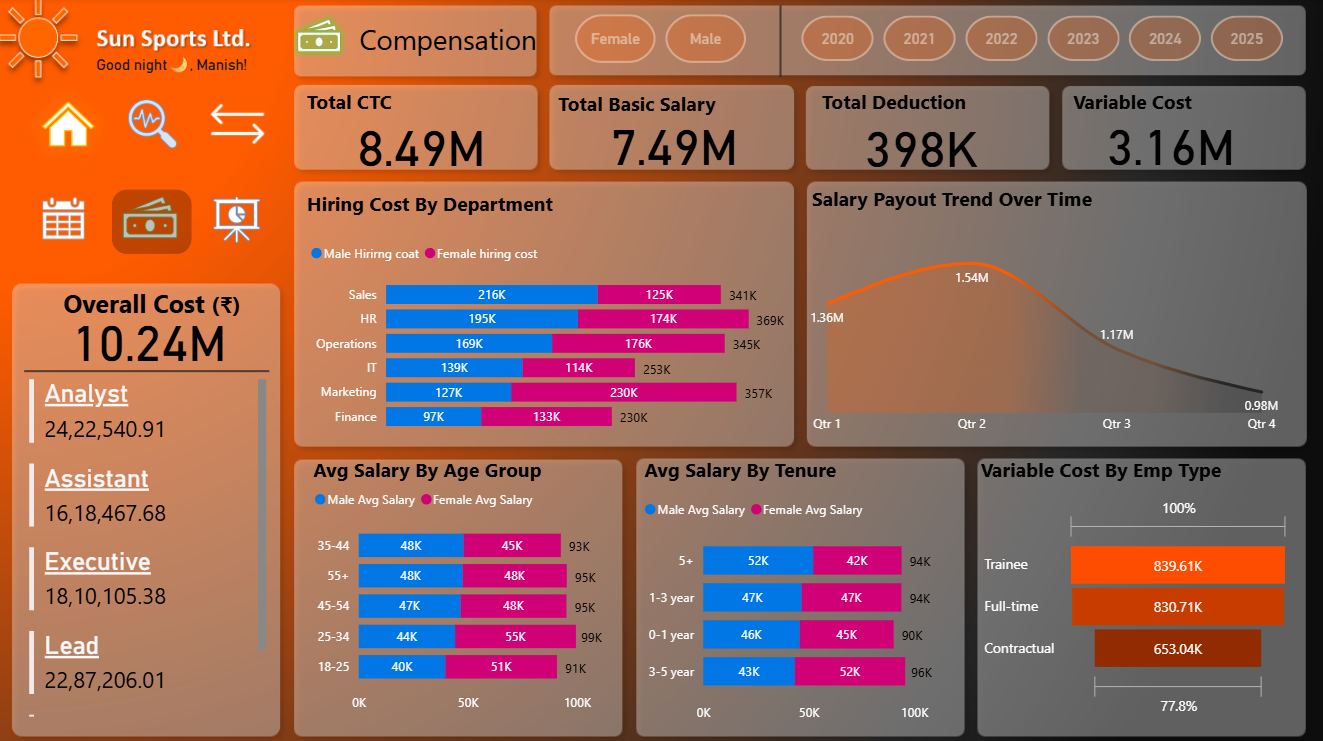

Layout of this report page (visuals, bound fields, positions):
{"tool":"powerbi","page":{"name":"Finance","canvas":[1280,720],"ordinal":3},"visuals":[{"type":"card","fields":{"Values":["Table1.Net Pay"]},"box":[571.9,107.4,161.7,62.7],"z":0},{"type":"card","fields":{"Values":["Table1.Deductions"]},"box":[790.2,113.4,202.7,54.3],"z":1000},{"type":"card","fields":{"Values":["Table1.CTC"]},"box":[333.4,102,151.8,73.4],"z":2000},{"type":"textbox","box":[293.2,82,148.4,41],"z":3000},{"type":"textbox","box":[535.7,84.5,176.1,41],"z":4000},{"type":"textbox","box":[790.2,82,176.1,41],"z":5000},{"type":"card","fields":{"Values":["Table1.Variable cost"]},"box":[1021.9,107.4,220.8,62.7],"z":6000},{"type":"textbox","box":[1032.7,82,177.3,41],"z":7000},{"type":"lineChart","fields":{"Y":["Table1.Basic Salary"],"Category":["Table1.Join Date.Variation.Date Hierarchy.Quarter"]},"box":[739,227.7,541.2,201.6],"z":8000},{"type":"textbox","box":[780.6,176.1,392.1,41],"z":9000},{"type":"advancedSlicerVisual","fields":{"Values":["Table1.Join Date.Variation.Date Hierarchy.Year"]},"box":[750.4,12.1,517.6,54.3],"z":10000},{"type":"advancedSlicerVisual","fields":{"Values":["Table1.Gender"]},"box":[532,10.9,216,57.9],"z":11000},{"type":"shape","box":[744.4,7.2,21.7,68.8],"z":12000},{"type":"barChart","fields":{"Category":["Table1.Department","Table1.Job Role"],"Y":["Performance Rating.Male Hirirng coat","Performance Rating.Female hiring cost"]},"box":[296.8,226.8,466.9,201.5],"z":13000},{"type":"funnel","fields":{"Y":["Table1.Variable cost"],"Category":["Table1.Employment Type","Table1.Department"]},"box":[947.1,476.5,305.2,222],"z":14000},{"type":"barChart","fields":{"Category":["Table1.Age Group"],"Y":["Performance Rating.Male Avg Salary","Performance Rating.Female Avg Salary"]},"box":[300.4,464.5,301.6,234],"z":15000},{"type":"barChart","fields":{"Y":["Performance Rating.Male Avg Salary","Performance Rating.Female Avg Salary"],"Category":["Table1.Tenure Year"]},"box":[618.9,474.1,301.6,234],"z":16000},{"type":"multiRowCard","fields":{"Values":["Table1.Job Role","Table1.Total Finance"]},"box":[25.3,363.1,238.9,335.4],"z":17000},{"type":"textbox","box":[15.7,273.9,259.4,59.1],"z":18000},{"type":"card","fields":{"Values":["Table1.Total Finance"]},"box":[24.1,294.4,243.7,67.6],"z":19000},{"type":"shape","box":[25.3,346.2,236.5,27.7],"z":20000},{"type":"card","fields":{"Values":["Retention rate.WelcomeMessage"]},"box":[71.2,45.8,193,39.8],"z":21000},{"type":"textbox","box":[293.2,181,261.8,41],"z":22000},{"type":"textbox","box":[299.2,437.9,261.8,41],"z":23000},{"type":"textbox","box":[618.9,437.9,261.8,41],"z":24000},{"type":"textbox","box":[943.4,437.9,305.2,41],"z":25000},{"type":"textbox","box":[275.1,16.9,249.7,67.6],"z":26000},{"type":"image","box":[12.1,43.4,252.1,225.6],"z":27000},{"type":"actionButton","box":[27.7,181,77.2,62.7],"z":29000},{"type":"actionButton","box":[112.2,90.5,77.2,62.7],"z":30000},{"type":"actionButton","box":[109.8,184.6,77.2,62.7],"z":31000},{"type":"actionButton","box":[195.7,90.2,77.2,62.7],"z":32000},{"type":"actionButton","box":[194.2,181,77.2,62.7],"z":33000},{"type":"image","box":[276.3,2.4,67.6,68.8],"z":34000}]}

Visuals, with their boxes in screenshot pixels (x1, y1, x2, y2), scaled from the page's 1280x720 canvas onto the 1323x741 screenshot:
card - Table1.Net Pay: <bbox>591, 111, 758, 175</bbox>
card - Table1.Deductions: <bbox>817, 117, 1026, 173</bbox>
card - Table1.CTC: <bbox>345, 105, 501, 181</bbox>
textbox: <bbox>303, 84, 456, 127</bbox>
textbox: <bbox>554, 87, 736, 129</bbox>
textbox: <bbox>817, 84, 999, 127</bbox>
card - Table1.Variable cost: <bbox>1056, 111, 1284, 175</bbox>
textbox: <bbox>1067, 84, 1251, 127</bbox>
lineChart - Table1.Basic Salary x Table1.Join Date.Variation.Date Hierarchy.Quarter: <bbox>764, 234, 1322, 442</bbox>
textbox: <bbox>807, 181, 1212, 223</bbox>
advancedSlicerVisual - Table1.Join Date.Variation.Date Hierarchy.Year: <bbox>776, 12, 1311, 68</bbox>
advancedSlicerVisual - Table1.Gender: <bbox>550, 11, 773, 71</bbox>
shape: <bbox>769, 7, 792, 78</bbox>
barChart - Table1.Department x Table1.Job Role: <bbox>307, 233, 789, 441</bbox>
funnel - Table1.Variable cost x Table1.Employment Type: <bbox>979, 490, 1294, 719</bbox>
barChart - Table1.Age Group x Performance Rating.Male Avg Salary: <bbox>310, 478, 622, 719</bbox>
barChart - Performance Rating.Male Avg Salary x Performance Rating.Female Avg Salary: <bbox>640, 488, 951, 729</bbox>
multiRowCard - Table1.Job Role x Table1.Total Finance: <bbox>26, 374, 273, 719</bbox>
textbox: <bbox>16, 282, 284, 343</bbox>
card - Table1.Total Finance: <bbox>25, 303, 277, 373</bbox>
shape: <bbox>26, 356, 271, 385</bbox>
card - Retention rate.WelcomeMessage: <bbox>74, 47, 273, 88</bbox>
textbox: <bbox>303, 186, 574, 228</bbox>
textbox: <bbox>309, 451, 580, 493</bbox>
textbox: <bbox>640, 451, 910, 493</bbox>
textbox: <bbox>975, 451, 1291, 493</bbox>
textbox: <bbox>284, 17, 542, 87</bbox>
image: <bbox>13, 45, 273, 277</bbox>
actionButton: <bbox>29, 186, 108, 251</bbox>
actionButton: <bbox>116, 93, 196, 158</bbox>
actionButton: <bbox>113, 190, 193, 255</bbox>
actionButton: <bbox>202, 93, 282, 157</bbox>
actionButton: <bbox>201, 186, 281, 251</bbox>
image: <bbox>286, 2, 355, 73</bbox>
